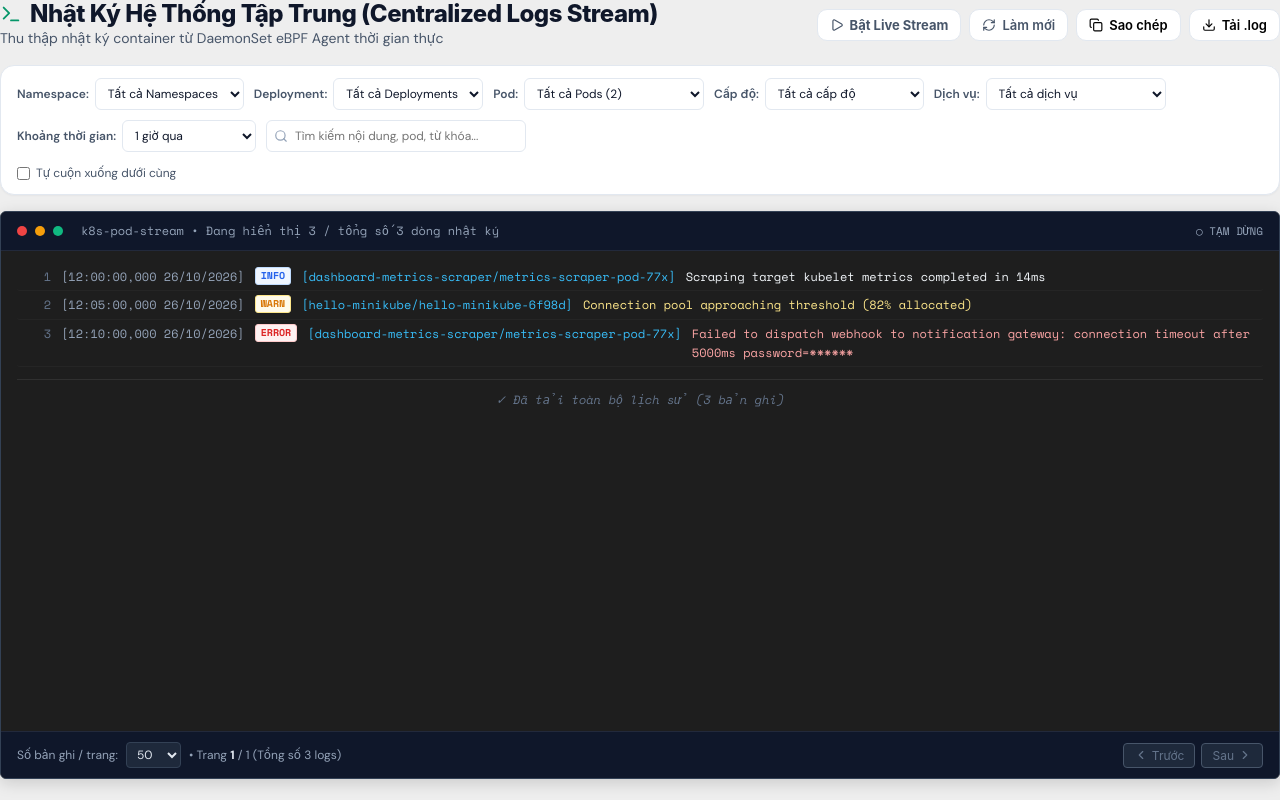
Scenario: Task [S4][PB17] 3.1 – Centralized Logs Viewer, Filters & Details Suite › 5. Log Detail Modal & Masking › 5.2. Masks password in modal message view
The width and height of the screenshot is (1280, 800).
Expected: the text "Failed to dispatch webhook" is shown, [692,325,1257,361]
Click the element with test id "log-row-1003".
click(640, 343)  # box [17,320,1263,367]
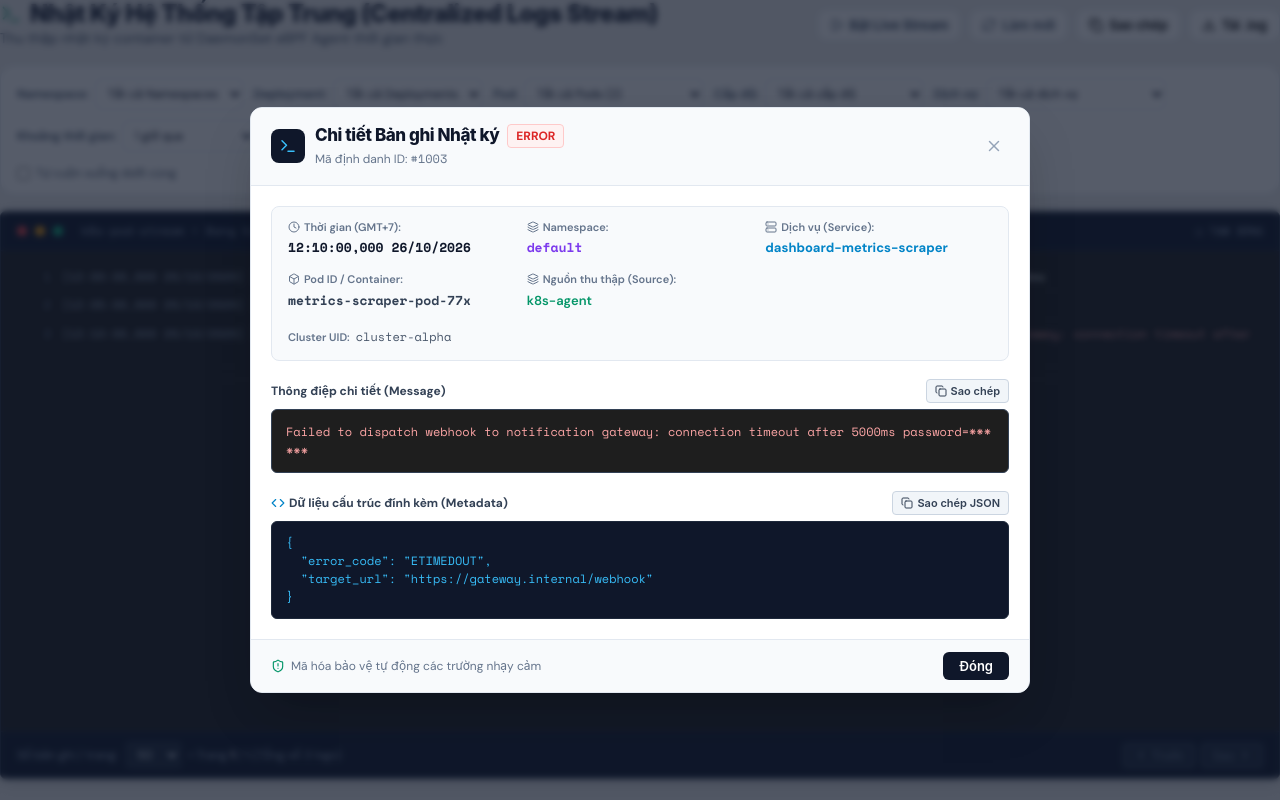
Now the element with test id "log-detail-modal" is shown, box [250,107,1030,693]
Now the text "password=******" is shown, box [286,423,991,459]
